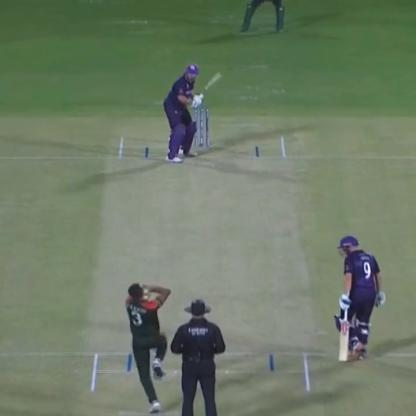ball: (138, 281, 150, 299)
bat: (196, 65, 228, 95)
pitch: (82, 126, 321, 398)
